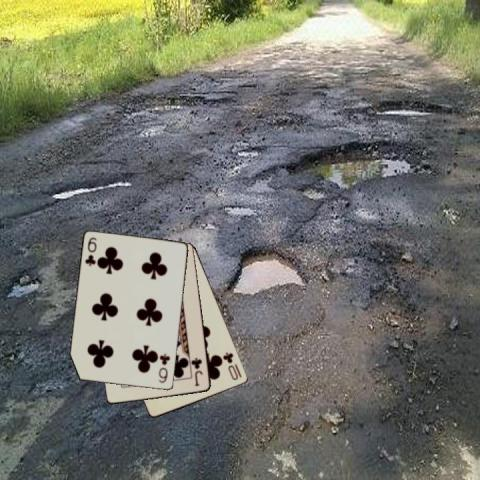10c: (220, 349, 243, 382)
6c: (82, 235, 98, 267), (156, 350, 171, 384)
Jc: (190, 355, 204, 387)
